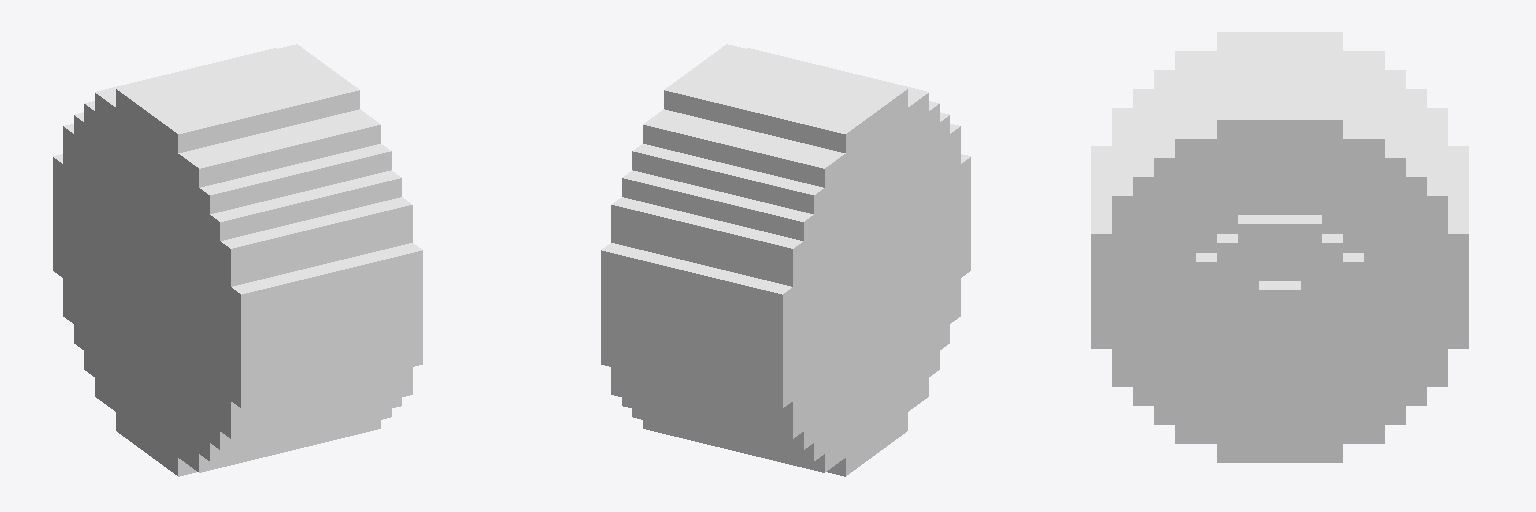
The model's file is Boss-1.obj.
The picture shows the model from 3 angles: view 1: azimuth 30°, elevation 25°; view 2: azimuth 150°, elevation 25°; view 3: azimuth 270°, elevation 25°; orthographic projection.
Parts seen in each view (by area): view 1: Boss-1; view 2: Boss-1; view 3: Boss-1.
Boxes of the visible parts, box(x1,y1,x2,y2) form: Boss-1: box(53, 44, 422, 476); Boss-1: box(601, 44, 970, 476); Boss-1: box(1091, 32, 1468, 462).
Size of the model in its own units: 12 by 18 by 18.